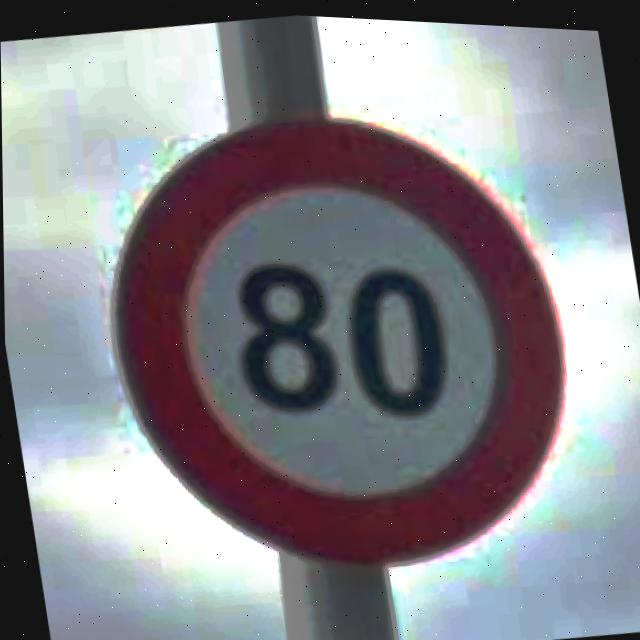max80: (78, 68, 593, 603)
